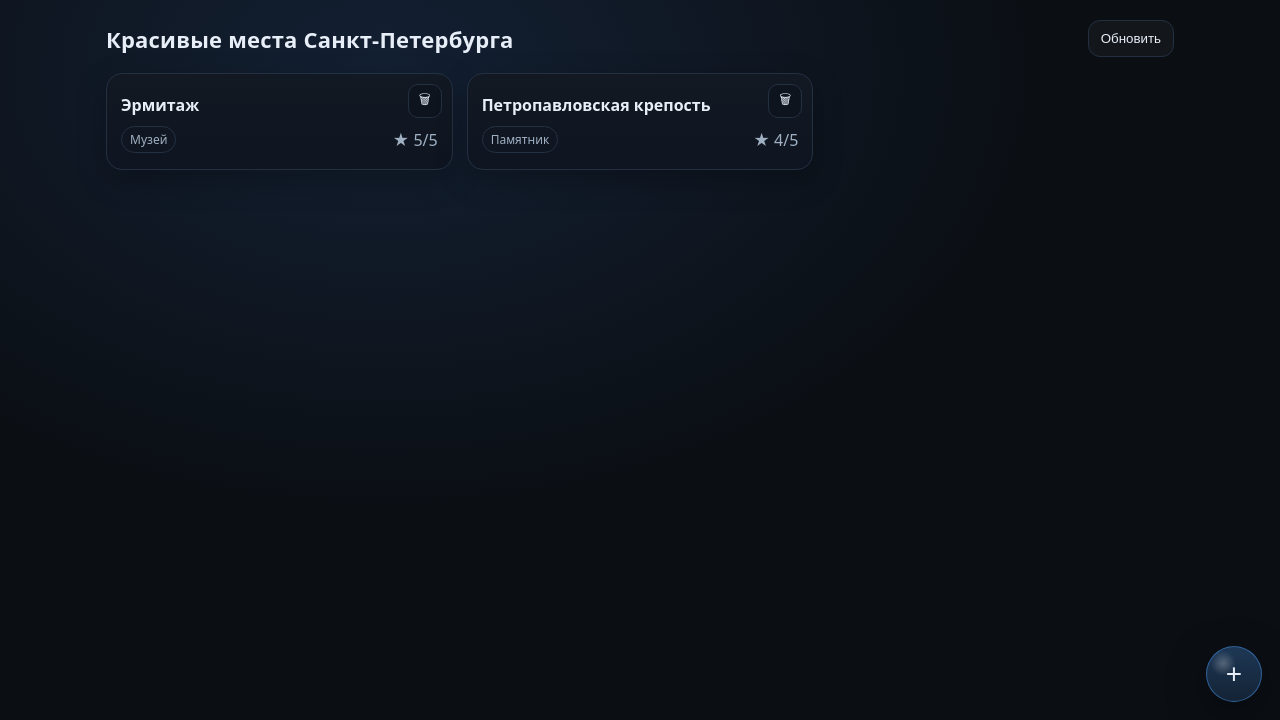
Test: PlacesPage — операции CRUD › удалённое место исчезает из списка
Expected: the text "Эрмитаж" is shown, x1=121 y1=94 x2=199 y2=116
Click the button named "Удалить: Эрмитаж" at (425, 101), box x1=408 y1=84 x2=442 y2=118
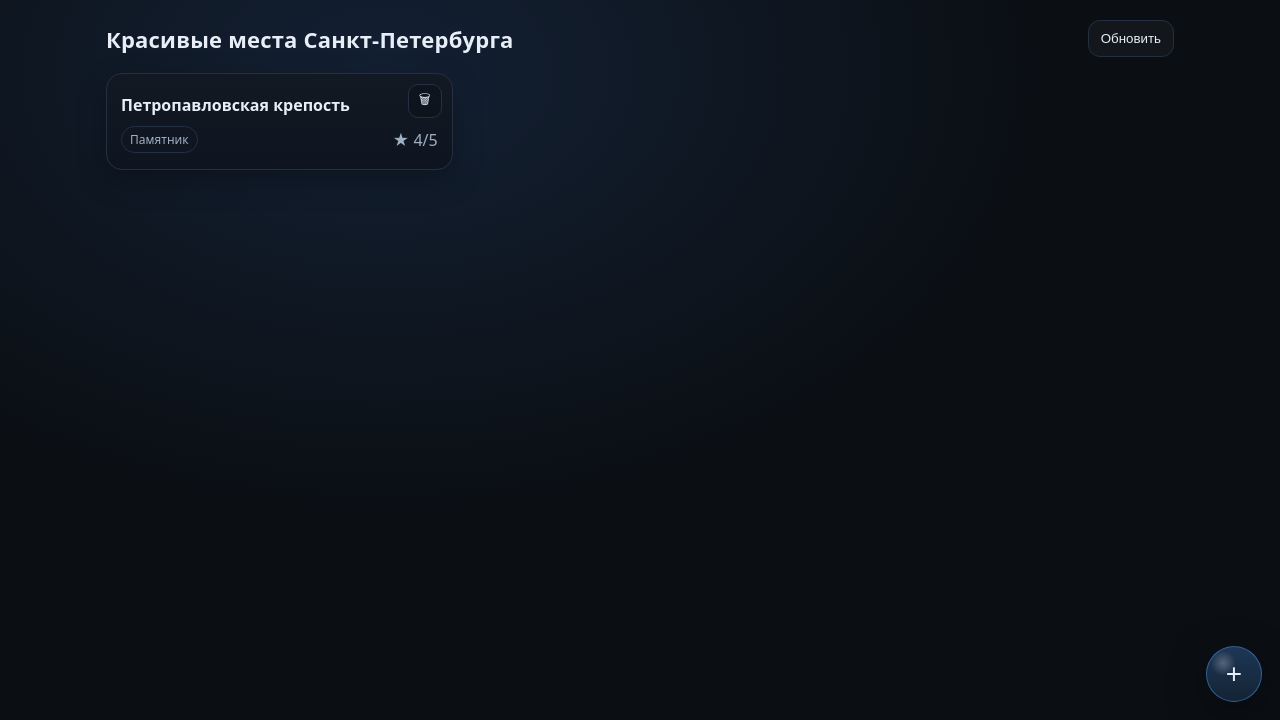
Expected: the button "Эрмитаж" is gone
